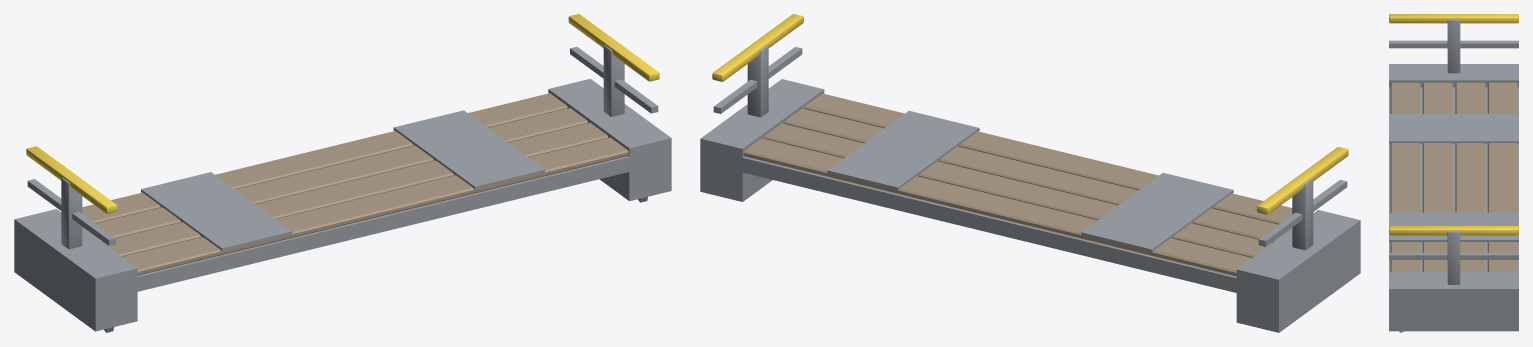
The model's file is bridge.glb.
The picture shows the model from 3 angles, left to right: view 1: azimuth 30°, elevation 25°; view 2: azimuth 150°, elevation 25°; view 3: azimuth 270°, elevation 25°; orthographic projection. The views are drawn at different scales.
Parts seen in each view (by area): view 1: bridge; view 2: bridge; view 3: bridge.
Part boxes in pixels (x1,y1,x2,y2): bridge: (14, 14, 671, 332); bridge: (700, 14, 1360, 332); bridge: (1389, 14, 1518, 332).
Size of the model in its own units: 4.1 by 0.8977 by 1.
